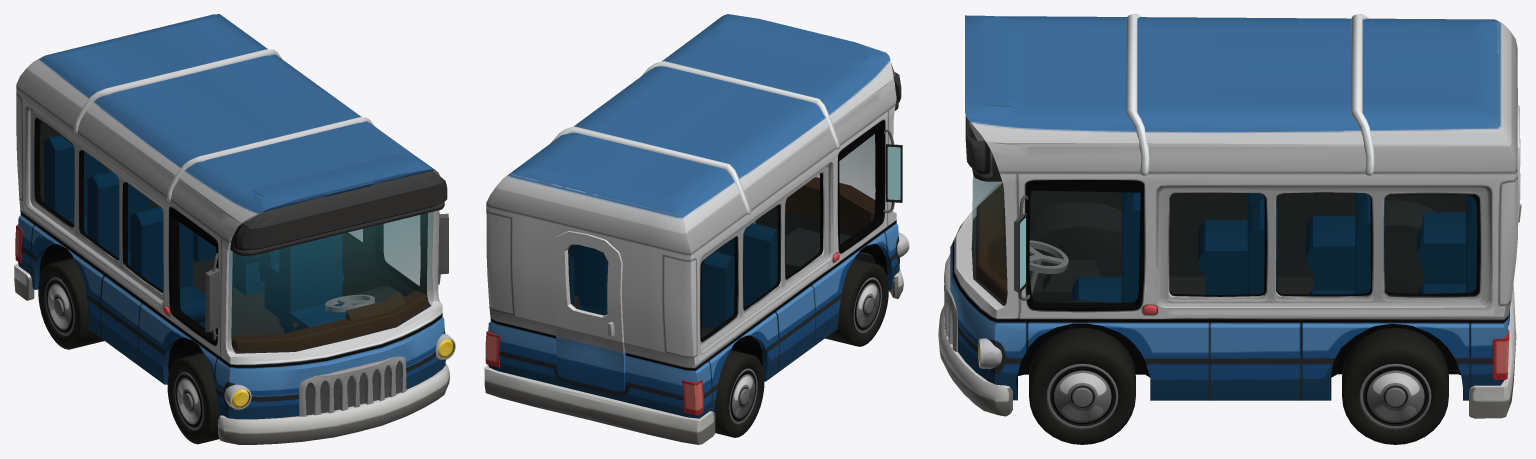
Rendered from HCR2 Bus.glb.
3 views of the same model, side by side, from view 1: azimuth 30°, elevation 25°; view 2: azimuth 150°, elevation 25°; view 3: azimuth 270°, elevation 25° (orthographic). The views are drawn at different scales.
Visible parts, largest first — view 1: HCR2_Bus_Body, HCR2_Bus_Windows, HCR2_Bus_Seats, HCR2_Bus_Interior, HCR2_Bus_Front_Bumper, HCR2_Bus_Header, HCR2_Bus_Dash, HCR2_Bus_Grl, HCR2_Bus_Header_H, HCR2_Bus_Roof_El, HCR2_Bus_RR_Tire, HCR2_Bus_FR_Tire (+6 smaller); view 2: HCR2_Bus_Body, HCR2_Bus_Windows, HCR2_Bus_Door, HCR2_Bus_Seats, HCR2_Bus_Rear_Bumper, HCR2_Bus_Roof_El, HCR2_Bus_Interior, HCR2_Bus_FR_Tire, HCR2_Bus_Dash, HCR2_Bus_RR_Tire, HCR2_Bus_RR_Rim, HCR2_Bus_FR_Rim (+2 smaller); view 3: HCR2_Bus_Body, HCR2_Bus_Windows, HCR2_Bus_Interior, HCR2_Bus_Seats, HCR2_Bus_FL_Tire, HCR2_Bus_RL_Tire, HCR2_Bus_RL_Rim, HCR2_Bus_FL_Rim, HCR2_Bus_Roof_El, HCR2_Bus_Dash, HCR2_Bus_Front_Bumper, HCR2_Bus_Rear_Bumper (+7 smaller).
Part boxes in pixels (left/top/right/bottom): HCR2_Bus_Body: left=16, top=14, right=445, bottom=419; HCR2_Bus_Windows: left=39, top=121, right=433, bottom=352; HCR2_Bus_Seats: left=44, top=135, right=345, bottom=333; HCR2_Bus_Interior: left=40, top=121, right=430, bottom=353; HCR2_Bus_Front_Bumper: left=218, top=363, right=449, bottom=444; HCR2_Bus_Header: left=234, top=177, right=447, bottom=250; HCR2_Bus_Dash: left=231, top=290, right=427, bottom=351; HCR2_Bus_Grl: left=299, top=356, right=406, bottom=416; HCR2_Bus_Header_H: left=230, top=171, right=444, bottom=256; HCR2_Bus_Roof_El: left=73, top=49, right=374, bottom=201; HCR2_Bus_RR_Tire: left=38, top=258, right=104, bottom=349; HCR2_Bus_FR_Tire: left=167, top=352, right=219, bottom=444; HCR2_Bus_Body: left=486, top=14, right=899, bottom=418; HCR2_Bus_Windows: left=701, top=133, right=876, bottom=337; HCR2_Bus_Door: left=551, top=231, right=625, bottom=391; HCR2_Bus_Seats: left=569, top=195, right=777, bottom=328; HCR2_Bus_Rear_Bumper: left=484, top=365, right=715, bottom=444; HCR2_Bus_Roof_El: left=551, top=61, right=840, bottom=214; HCR2_Bus_Interior: left=537, top=180, right=875, bottom=337; HCR2_Bus_FR_Tire: left=825, top=259, right=888, bottom=346; HCR2_Bus_Dash: left=752, top=177, right=874, bottom=233; HCR2_Bus_RR_Tire: left=714, top=350, right=764, bottom=437; HCR2_Bus_RR_Rim: left=729, top=368, right=757, bottom=424; HCR2_Bus_FR_Rim: left=853, top=277, right=881, bottom=333; HCR2_Bus_Body: left=950, top=15, right=1517, bottom=400; HCR2_Bus_Windows: left=972, top=174, right=1476, bottom=305; HCR2_Bus_Interior: left=971, top=55, right=1498, bottom=370; HCR2_Bus_Seats: left=1072, top=192, right=1477, bottom=302; HCR2_Bus_FL_Tire: left=1029, top=328, right=1135, bottom=444; HCR2_Bus_RL_Tire: left=1342, top=328, right=1448, bottom=444; HCR2_Bus_RL_Rim: left=1359, top=364, right=1431, bottom=429; HCR2_Bus_FL_Rim: left=1046, top=364, right=1118, bottom=429; HCR2_Bus_Roof_El: left=1126, top=14, right=1374, bottom=175; HCR2_Bus_Dash: left=976, top=183, right=1041, bottom=303; HCR2_Bus_Front_Bumper: left=938, top=305, right=1012, bottom=416; HCR2_Bus_Rear_Bumper: left=1469, top=284, right=1516, bottom=418.
Size of the model in its own units: 2.81 by 2.91 by 4.83.
Materials: 4 (2 with a texture image).
